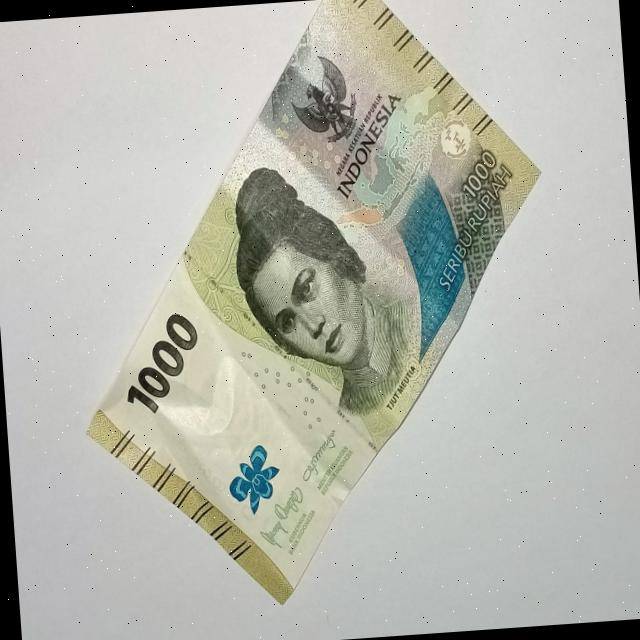1K: (55, 0, 573, 627)
